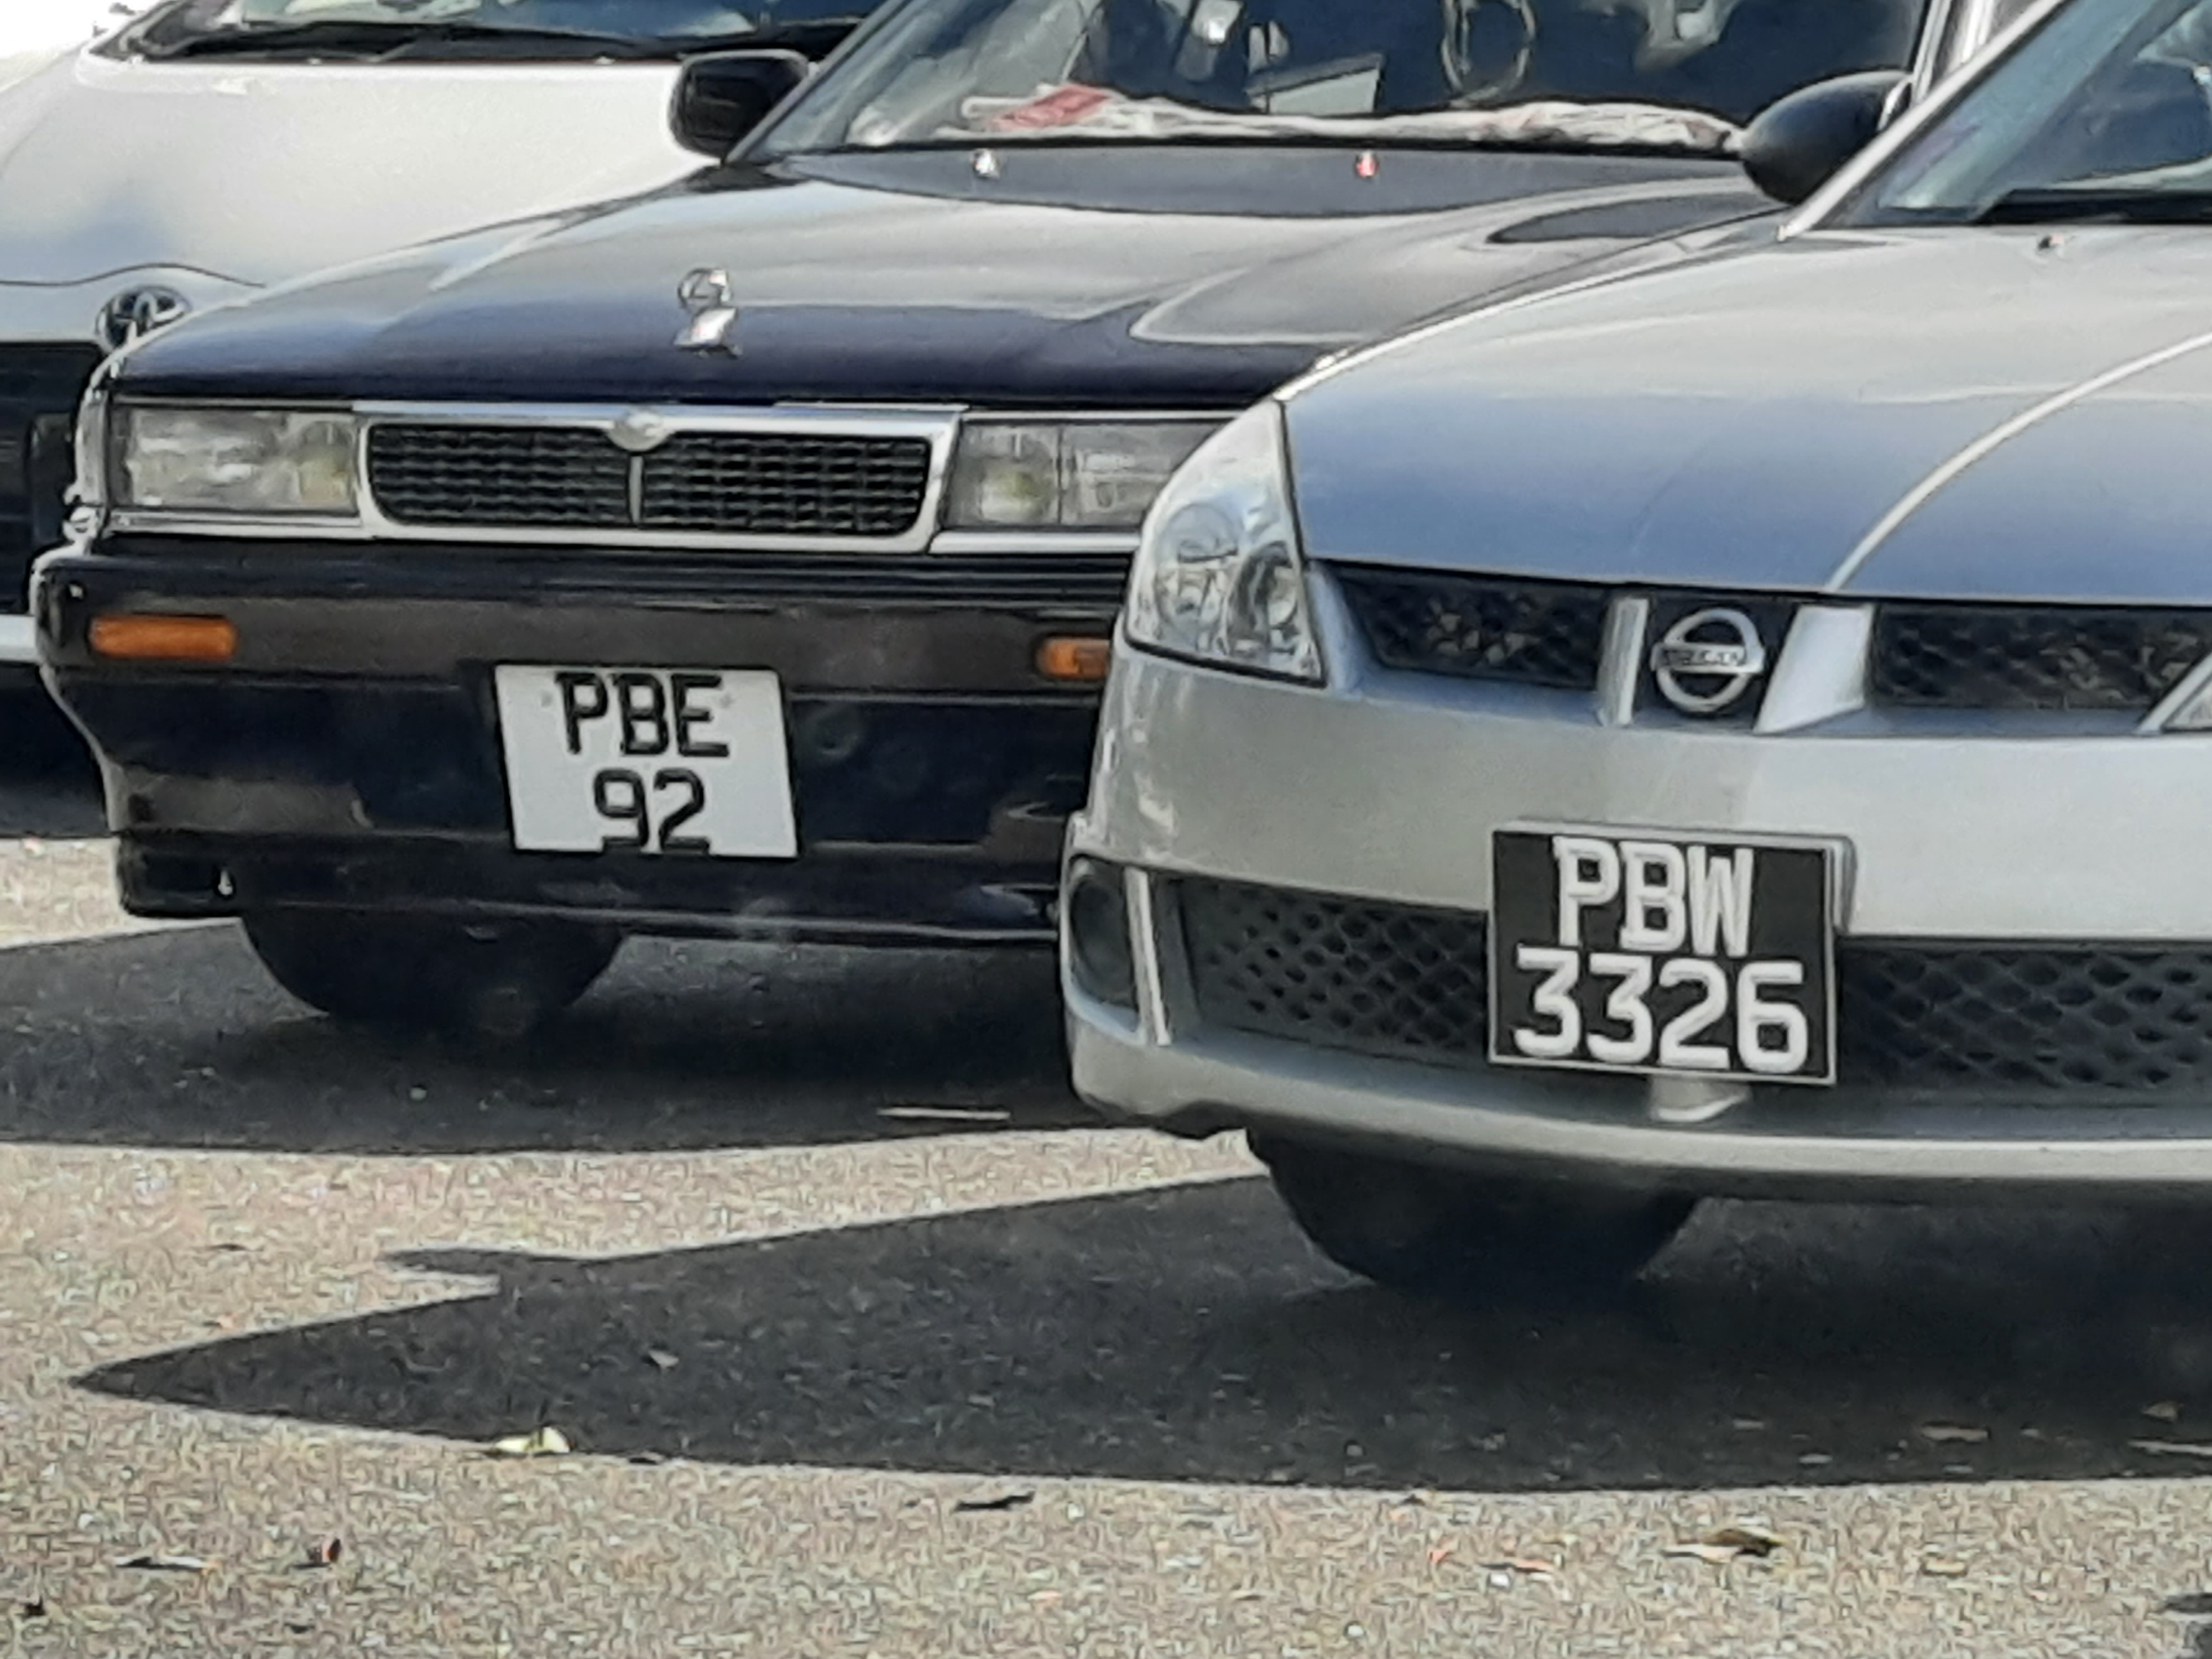License-Plate: (1500, 822, 1835, 1063), (521, 667, 775, 853)
